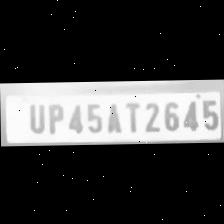2: (140, 98, 160, 132)
4: (180, 96, 200, 130), (64, 98, 82, 132)
5: (198, 95, 220, 130), (83, 98, 103, 132)
6: (159, 97, 179, 130)
A: (102, 98, 122, 132)
P: (42, 99, 64, 133)
T: (122, 98, 140, 132)
U: (23, 98, 45, 132)
